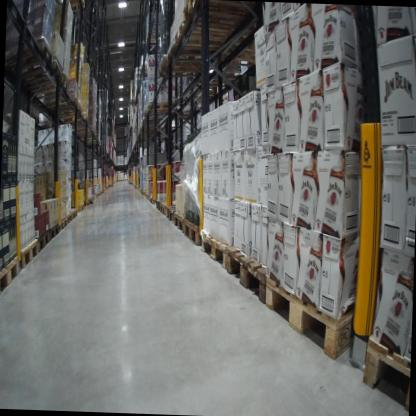pallet: (263, 271, 362, 371), (359, 334, 410, 416), (225, 241, 268, 311), (5, 34, 55, 90), (170, 19, 243, 56), (176, 2, 273, 28), (199, 229, 234, 281), (157, 36, 230, 60), (155, 54, 217, 79), (20, 59, 64, 90), (28, 71, 73, 100), (223, 37, 262, 69), (0, 257, 23, 299), (20, 233, 41, 272), (43, 93, 78, 116), (203, 70, 236, 91), (183, 218, 202, 249), (36, 227, 52, 257), (56, 102, 84, 119), (160, 197, 181, 218), (146, 99, 174, 114), (187, 90, 218, 103), (167, 204, 184, 227), (62, 113, 90, 126), (59, 0, 87, 12), (175, 211, 186, 235), (48, 223, 61, 242), (58, 216, 69, 233), (69, 207, 79, 221), (75, 202, 86, 213), (65, 212, 73, 223), (87, 196, 93, 206), (221, 95, 229, 102), (156, 201, 160, 212)
pallet_truck: (127, 160, 134, 185)
